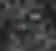one: (18, 20, 23, 31), (31, 19, 36, 30)
six: (25, 20, 30, 30)
